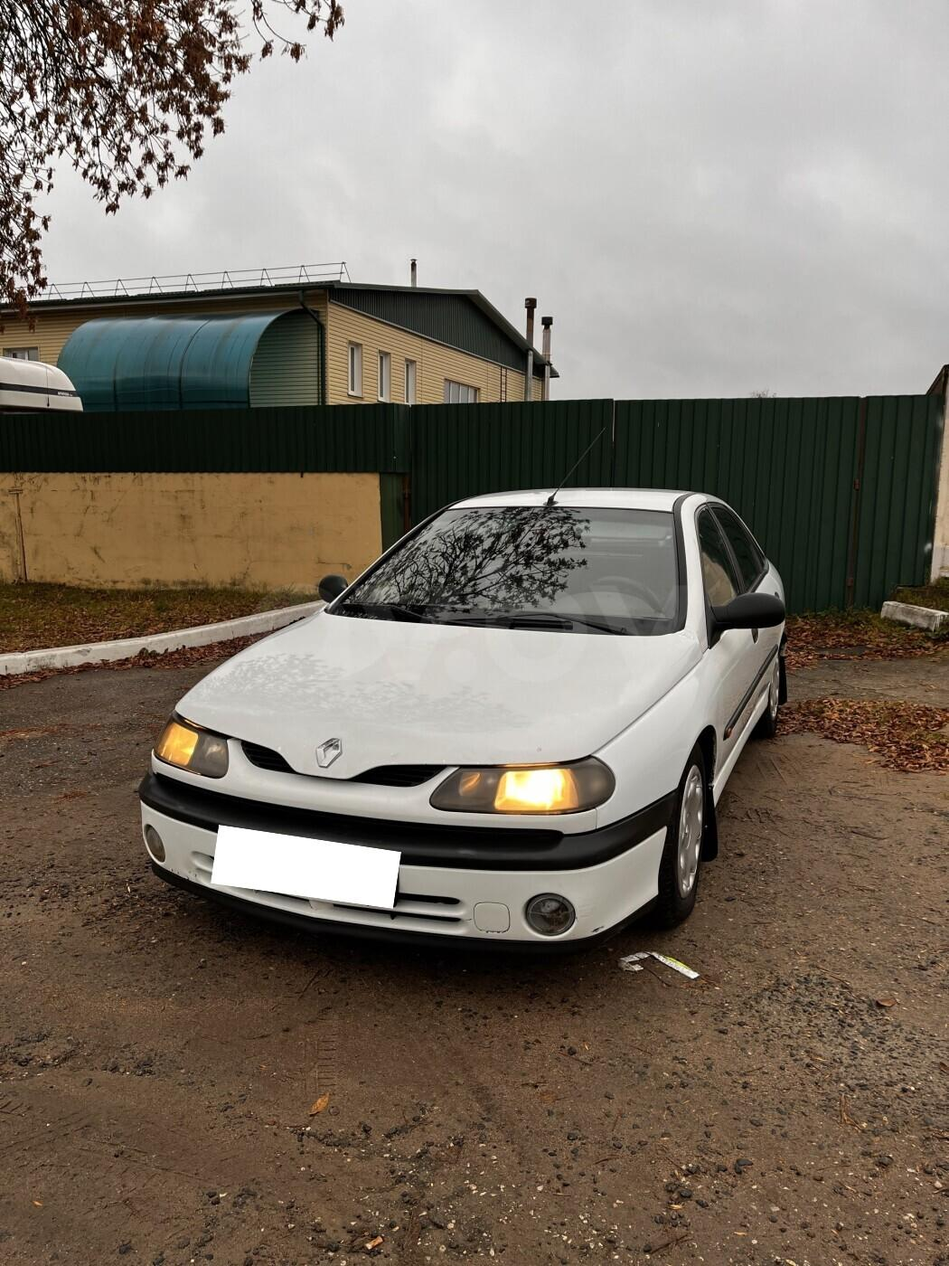Laguna_1998-2001: (128, 479, 810, 959)
